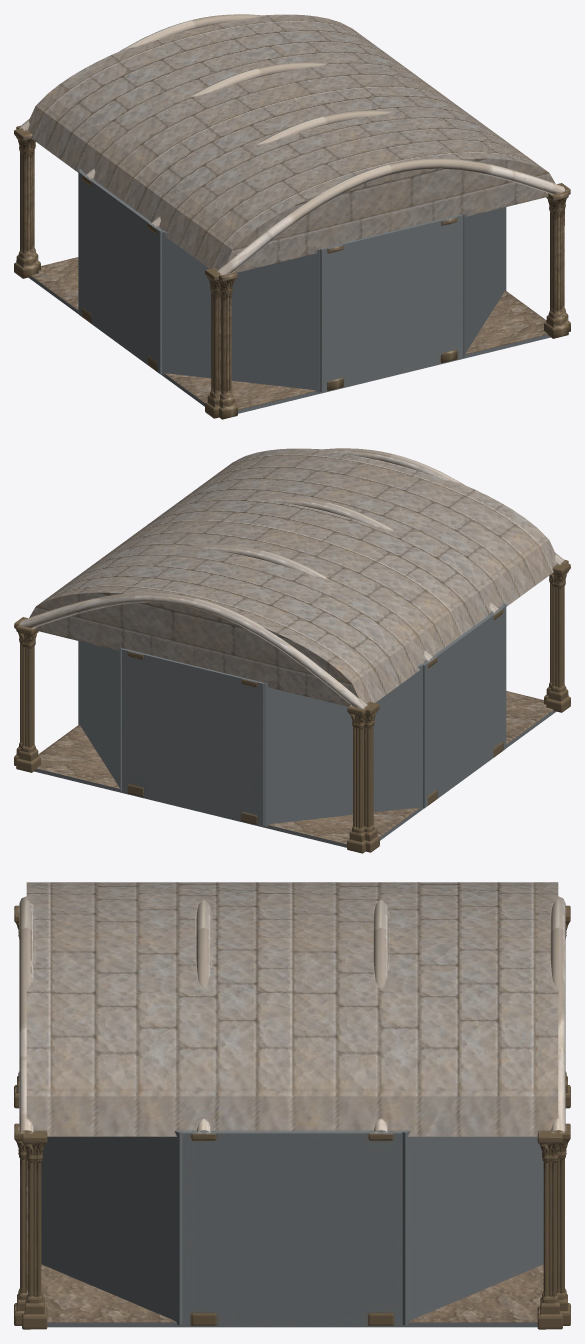
File: room.glb
3 renders of one model, top to bottom at view 1: azimuth 30°, elevation 25°; view 2: azimuth 150°, elevation 25°; view 3: azimuth 270°, elevation 25°, orthographic. The views are drawn at different scales.
Visible parts, largest first — view 1: VAULT; view 2: VAULT; view 3: VAULT.
Part boxes in pixels (box(x1,y1,x2,y2)): VAULT: box(14, 14, 570, 419); VAULT: box(14, 448, 570, 853); VAULT: box(14, 882, 570, 1329).
Size of the model in its own units: 10.48 by 5.95 by 10.48.
1 material, 1 textured.
